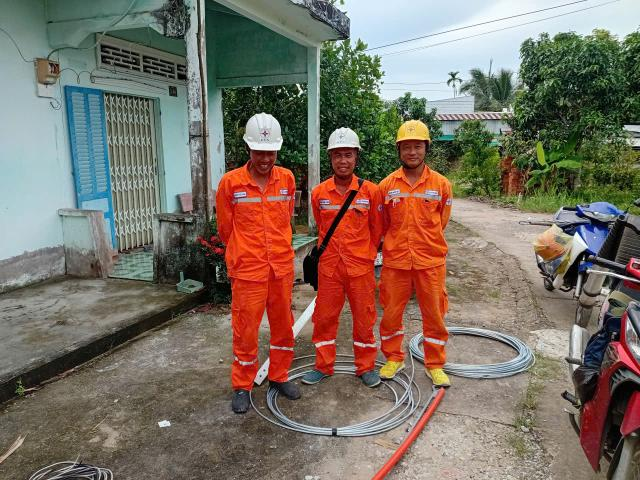helmet: (236, 107, 281, 153), (312, 124, 365, 155), (396, 117, 433, 148)
shoes: (267, 372, 304, 401), (376, 353, 407, 382), (298, 363, 331, 386), (232, 385, 253, 420), (358, 362, 383, 390), (430, 357, 451, 389)
